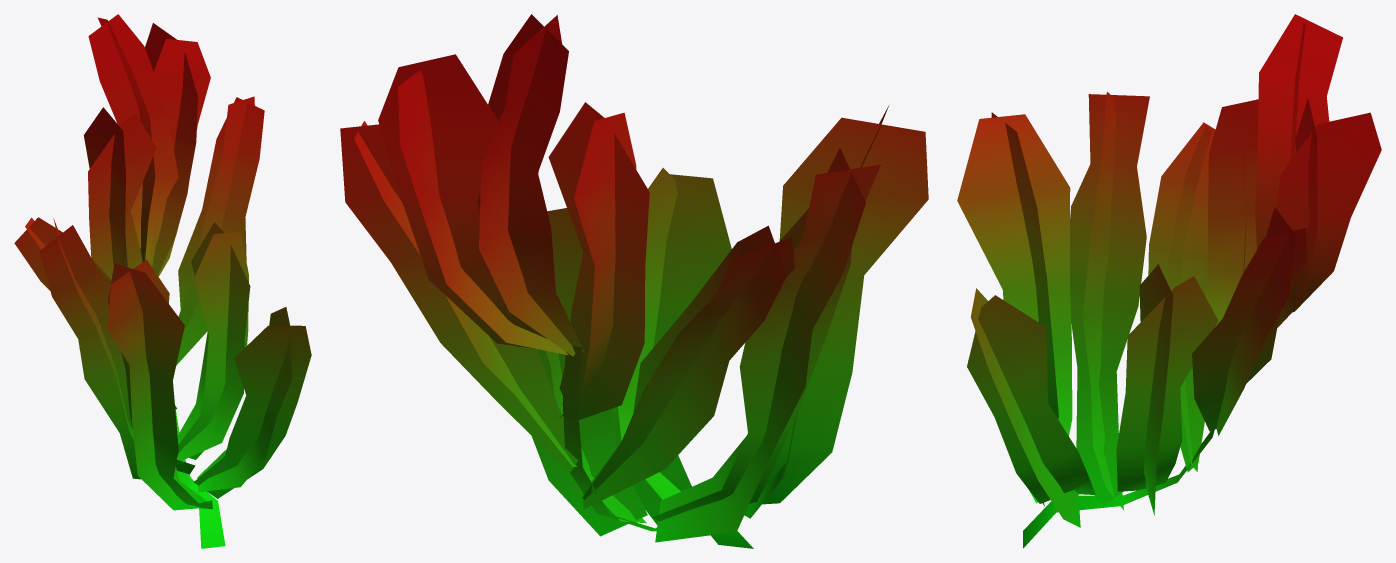
Rendered from Var6_LOD3.fbx.
The picture shows the model from 3 angles, left to right: view 1: azimuth 30°, elevation 25°; view 2: azimuth 150°, elevation 25°; view 3: azimuth 270°, elevation 25°; orthographic projection. The views are drawn at different scales.
Visible parts, largest first — view 1: _cu8s_Var6_LOD3; view 2: _cu8s_Var6_LOD3; view 3: _cu8s_Var6_LOD3.
Part boxes in pixels (<box>): _cu8s_Var6_LOD3: <box>14,14,311,548</box>; _cu8s_Var6_LOD3: <box>340,14,928,548</box>; _cu8s_Var6_LOD3: <box>957,14,1381,548</box>.
Size of the model in its own units: 15.98 by 23.71 by 17.14.
